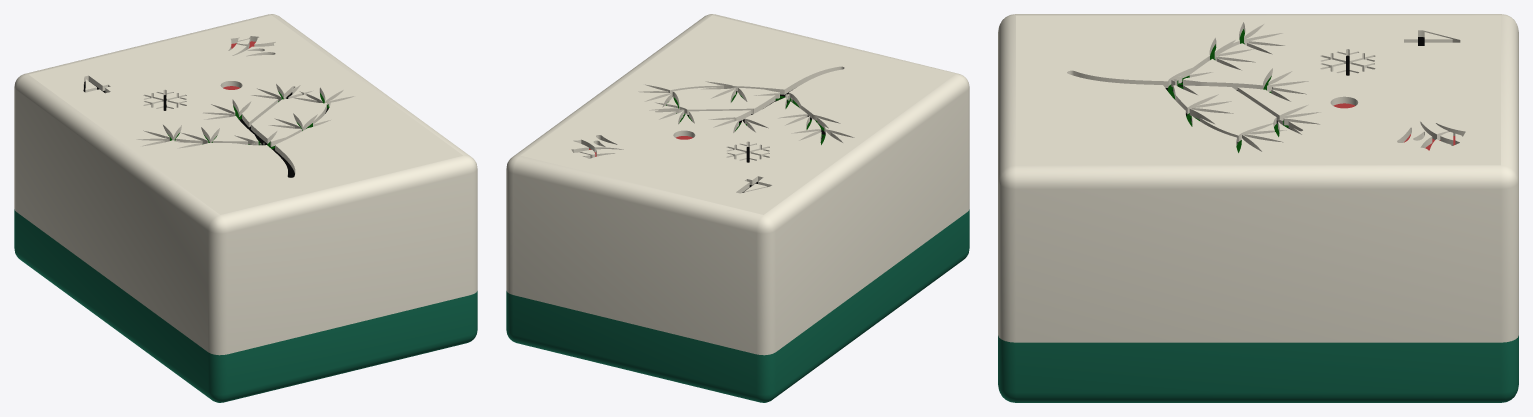
The model's file is Season4_Winter.glb.
The picture shows the model from 3 angles, left to right: view 1: azimuth 30°, elevation 25°; view 2: azimuth 150°, elevation 25°; view 3: azimuth 270°, elevation 25°; orthographic projection. The views are drawn at different scales.
Visible parts, largest first — view 1: Season4_Winter_body, Season4_Winter_inset; view 2: Season4_Winter_body, Season4_Winter_inset; view 3: Season4_Winter_body, Season4_Winter_inset.
Part boxes in pixels (x1,y1,x2,y2): Season4_Winter_body: [14, 14, 477, 402]; Season4_Winter_inset: [83, 41, 329, 177]; Season4_Winter_body: [506, 14, 969, 402]; Season4_Winter_inset: [589, 90, 825, 192]; Season4_Winter_body: [998, 14, 1518, 402]; Season4_Winter_inset: [1165, 29, 1455, 152].
Bounding box in the file's own units: 0.024 × 0.016 × 0.032.
